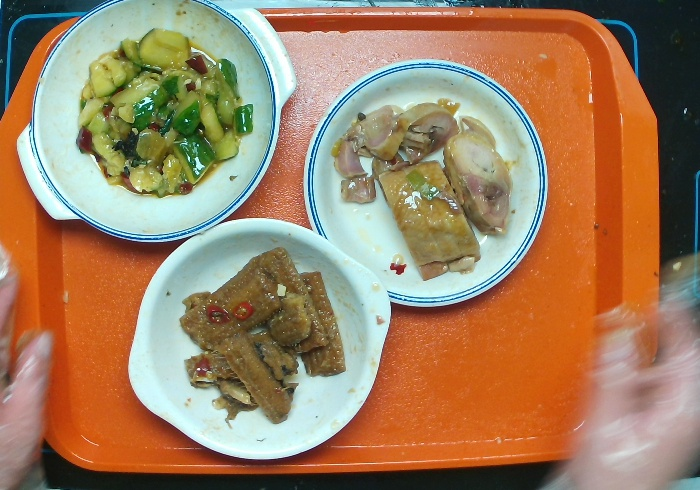HZYJPL-Dai_Er_Bai_Yuan_Wan: (123, 216, 401, 464)
HZYJPL-Lan_Bian_Dai_Er_Wan: (1, 2, 299, 251)
HZYJPL-Lan_Bian_Yuan_Die: (295, 53, 563, 318)
